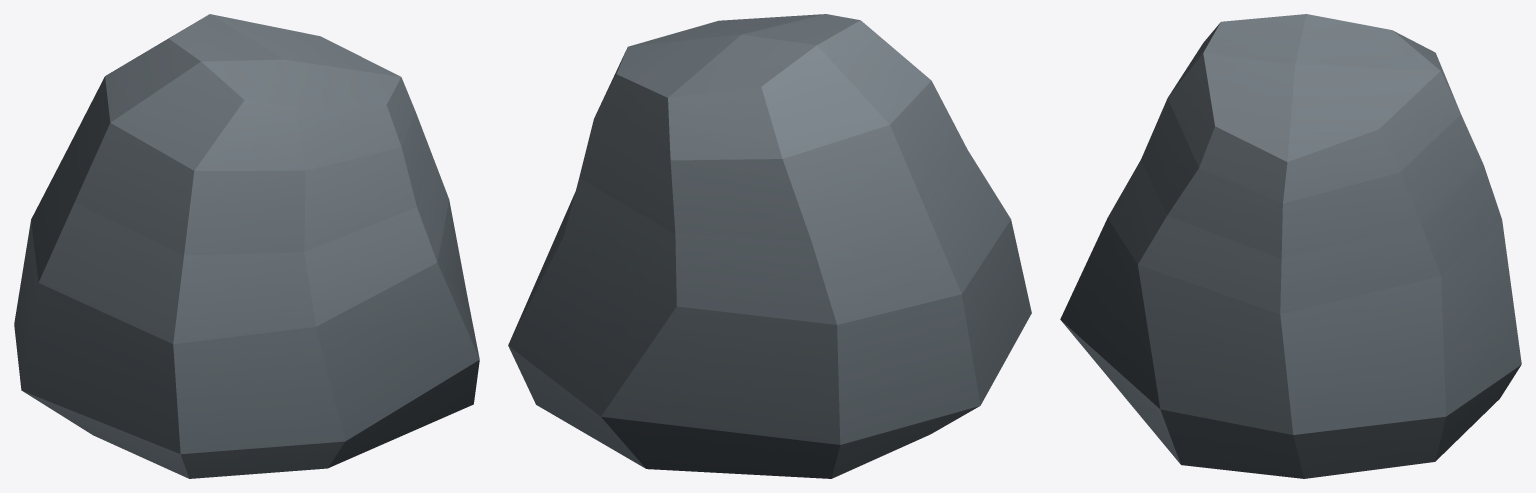
Rendered from skała3.fbx.
3 renders of one model, left to right at view 1: azimuth 30°, elevation 25°; view 2: azimuth 150°, elevation 25°; view 3: azimuth 270°, elevation 25°, orthographic. The views are drawn at different scales.
Visible parts, largest first — view 1: skała3; view 2: skała3; view 3: skała3.
Boxes of the visible parts, x1=… form: skała3: x1=14, y1=14, x2=479, y2=478; skała3: x1=508, y1=14, x2=1031, y2=478; skała3: x1=1060, y1=14, x2=1521, y2=478.
Bounding box in the file's own units: 233 × 183 × 217.
